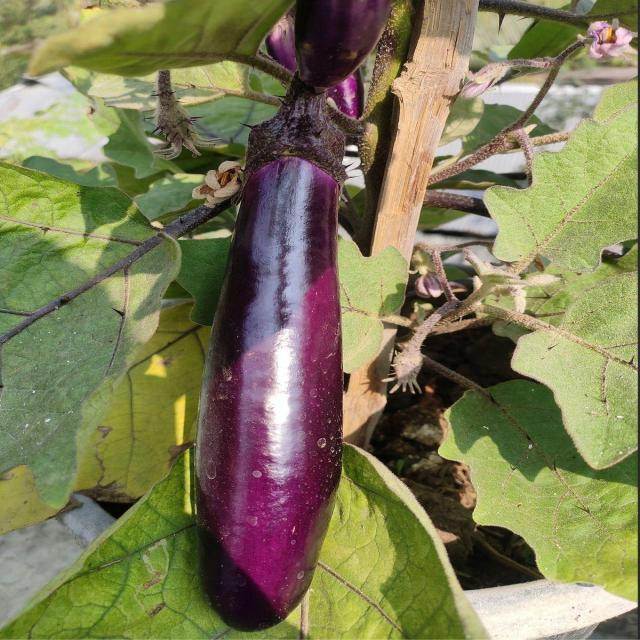eggplant: (198, 69, 344, 630)
